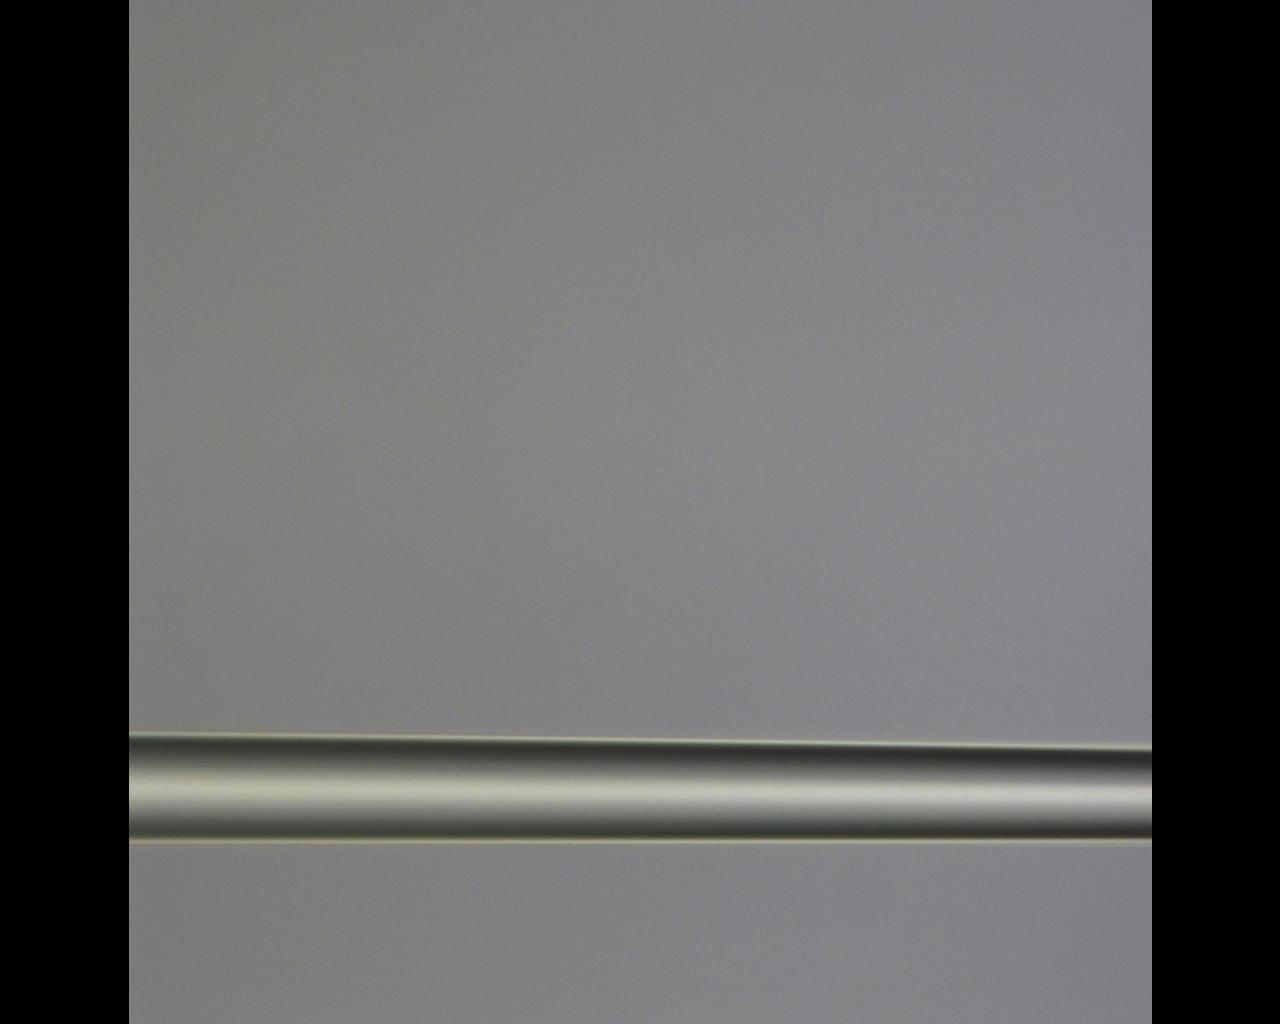fiber: (0, 0, 568, 539), (0, 764, 466, 1024), (797, 593, 950, 1024), (1078, 0, 1101, 593)
